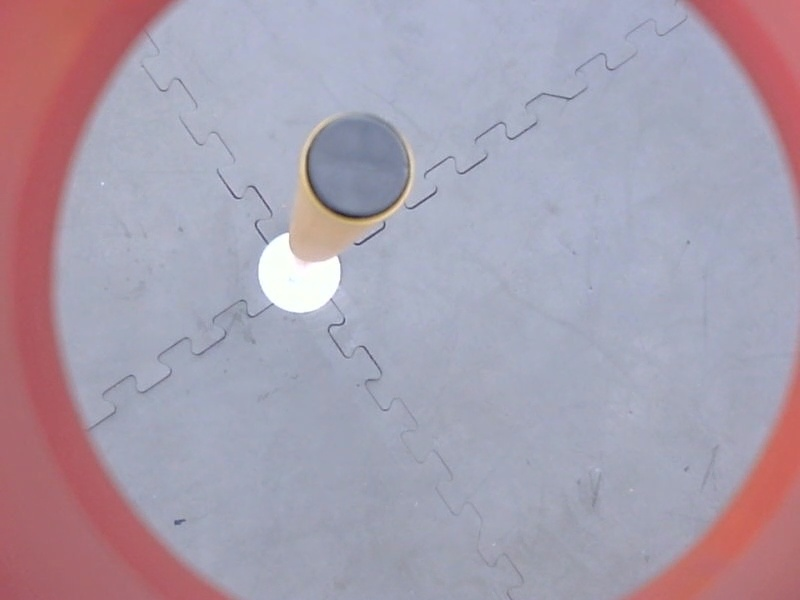tip: (295, 105, 420, 228)
